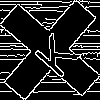K: (25, 25, 82, 80)
